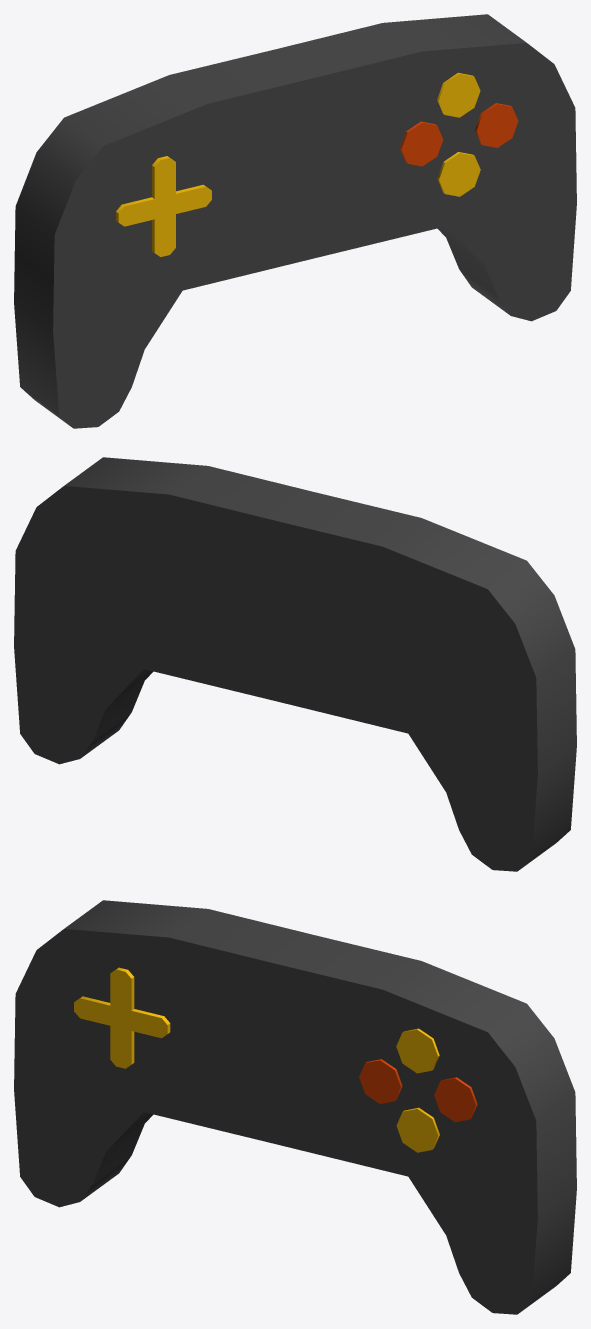
Rendered from Joystick_1.fbx.
The picture shows the model from 3 angles, top to bottom: view 1: azimuth 30°, elevation 25°; view 2: azimuth 150°, elevation 25°; view 3: azimuth 330°, elevation 25°; orthographic projection.
Parts seen in each view (by area): view 1: Joystick_1; view 2: Joystick_1; view 3: Joystick_1.
Part boxes in pixels (bbox=[...]): Joystick_1: bbox=[14, 14, 576, 428]; Joystick_1: bbox=[14, 457, 576, 871]; Joystick_1: bbox=[14, 900, 576, 1314].
Bounding box in the file's own units: 0.285 × 0.1542 × 0.0393.
